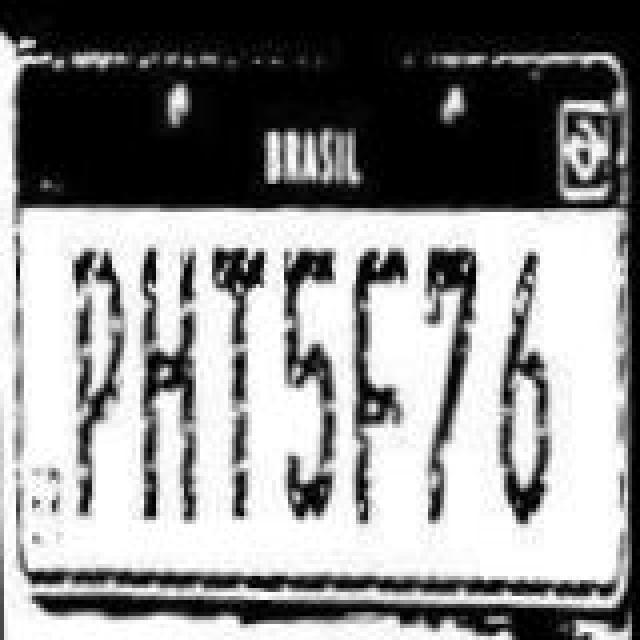5: (276, 234, 344, 518)
6: (492, 232, 560, 516)
7: (412, 232, 496, 524)
F: (342, 226, 422, 530)
H: (130, 232, 218, 524)
P: (60, 238, 128, 518)
T: (196, 228, 280, 524)
